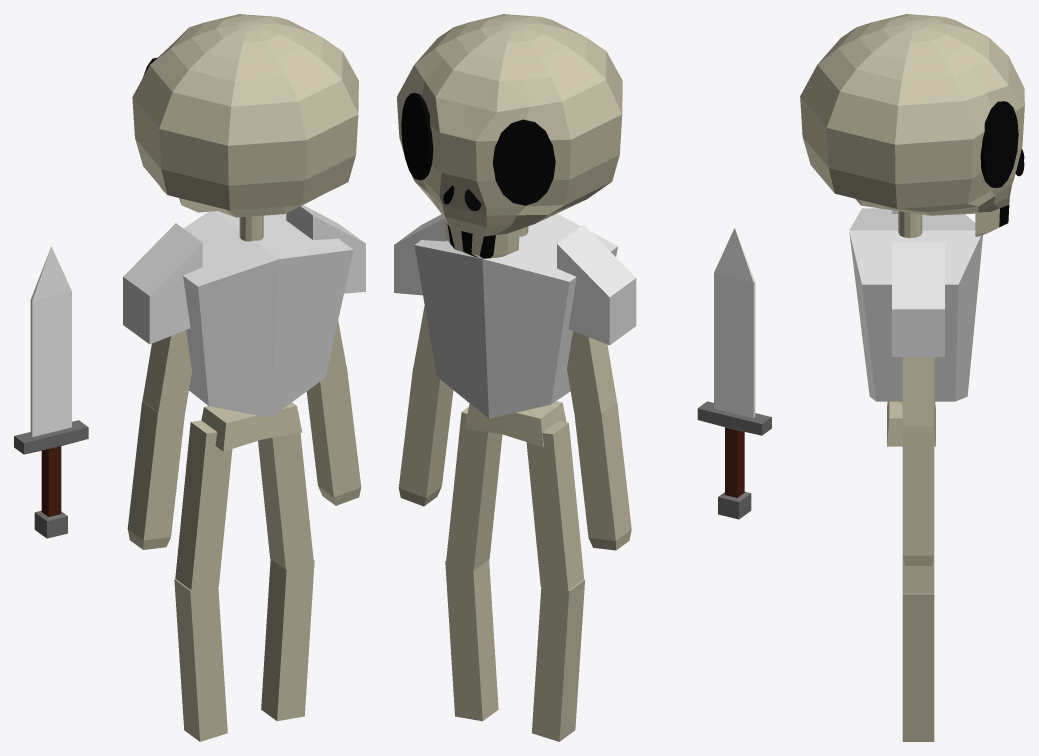
The model's file is Воин Скелет.fbx.
The picture shows the model from 3 angles, left to right: view 1: azimuth 30°, elevation 25°; view 2: azimuth 150°, elevation 25°; view 3: azimuth 270°, elevation 25°; orthographic projection.
Visible parts, largest first — view 1: Plane.003, Cube.045, Cube.050, Cube.049, Cube.047, Cube.013, Cube.061, Cube.046, Cube.048, Cylinder.014; view 2: Plane.003, Cube.045, Cube.050, Cube.049, Cube.047, Cube.013, Cube.061, Cube.046, Cube.048; view 3: Plane.003, Cube.045, Cube.061, Cube.050, Cube.047, Cube.046, Cube.049, Cube.048, Cylinder.014.
Boxes of the visible parts, <box> form: Plane.003: <box>132,14,358,217</box>; Cube.045: <box>183,211,353,417</box>; Cube.050: <box>174,559,314,741</box>; Cube.049: <box>175,411,313,590</box>; Cube.047: <box>127,367,361,549</box>; Cube.013: <box>14,246,88,538</box>; Cube.061: <box>123,205,365,344</box>; Cube.046: <box>142,320,346,413</box>; Cube.048: <box>201,402,302,451</box>; Cylinder.014: <box>239,215,263,241</box>; Plane.003: <box>397,14,622,258</box>; Cube.045: <box>414,213,617,418</box>; Cube.050: <box>445,560,584,741</box>; Cube.049: <box>446,407,584,590</box>; Cube.047: <box>398,368,631,550</box>; Cube.013: <box>697,228,771,519</box>; Cube.061: <box>394,214,636,345</box>; Cube.046: <box>413,306,616,413</box>; Cube.048: <box>464,401,566,447</box>; Plane.003: <box>800,14,1024,236</box>; Cube.045: <box>849,208,982,401</box>; Cube.061: <box>892,210,944,356</box>; Cube.050: <box>902,593,934,741</box>; Cube.047: <box>902,425,934,565</box>; Cube.046: <box>902,357,934,425</box>; Cube.049: <box>902,556,934,593</box>; Cube.048: <box>887,401,935,446</box>; Cylinder.014: <box>898,211,922,238</box>.
Size of the model in its own units: 120 by 231 by 67.77.
